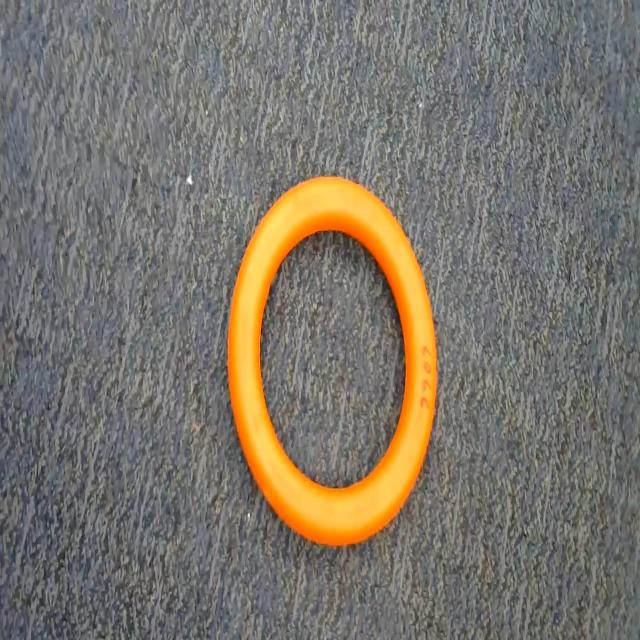note: (208, 159, 466, 584)
